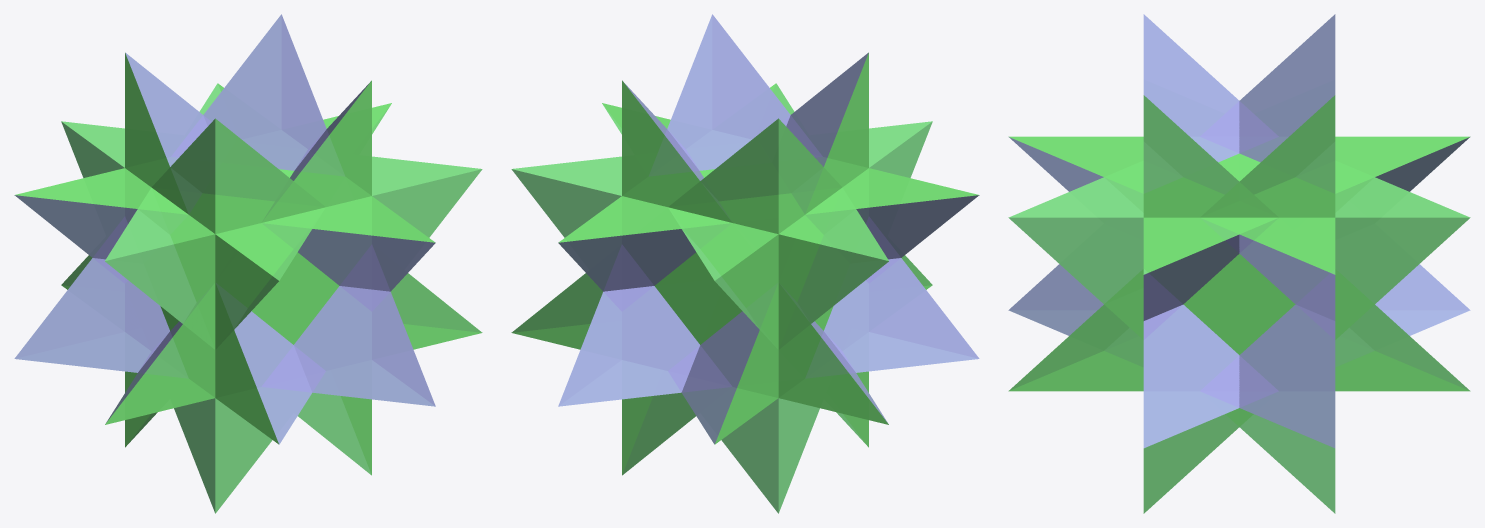
Rendered from StellatedTruncatedHexahedron.obj.
The picture shows the model from 3 angles, left to right: view 1: azimuth 30°, elevation 25°; view 2: azimuth 150°, elevation 25°; view 3: azimuth 270°, elevation 25°; orthographic projection. The views are drawn at different scales.
Size of the model in its own units: 1 by 1 by 1.
